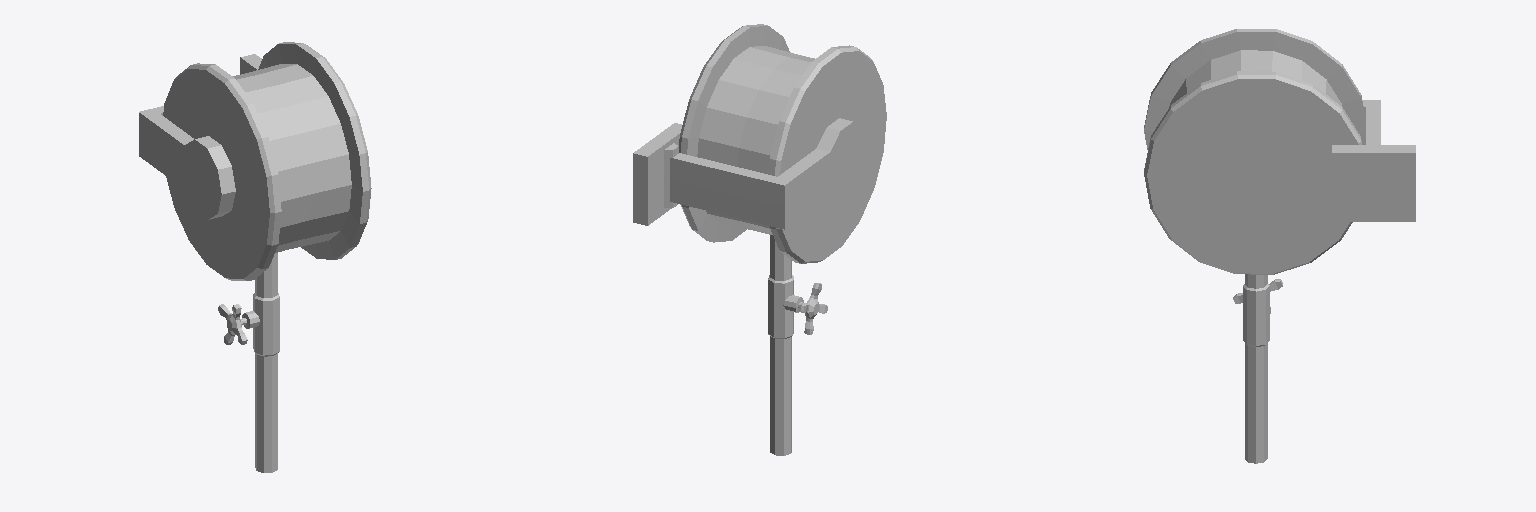
File: fire hose.obj
The picture shows the model from 3 angles: view 1: azimuth 30°, elevation 25°; view 2: azimuth 150°, elevation 25°; view 3: azimuth 270°, elevation 25°; orthographic projection.
Parts seen in each view (by area): view 1: Fire_hose; view 2: Fire_hose; view 3: Fire_hose.
Boxes of the visible parts, <box> form: Fire_hose: <box>139,42,371,472</box>; Fire_hose: <box>633,24,886,455</box>; Fire_hose: <box>1144,29,1415,463</box>.
Size of the model in its own units: 57.19 by 166 by 101.